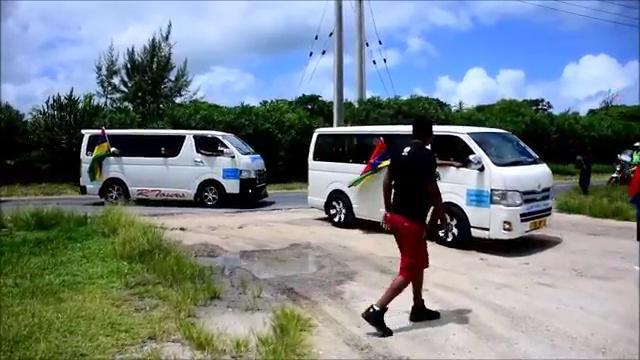Van: (305, 124, 557, 246), (76, 123, 272, 210)
